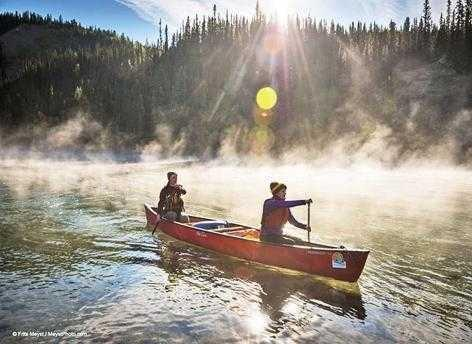kayak: (144, 204, 370, 285)
